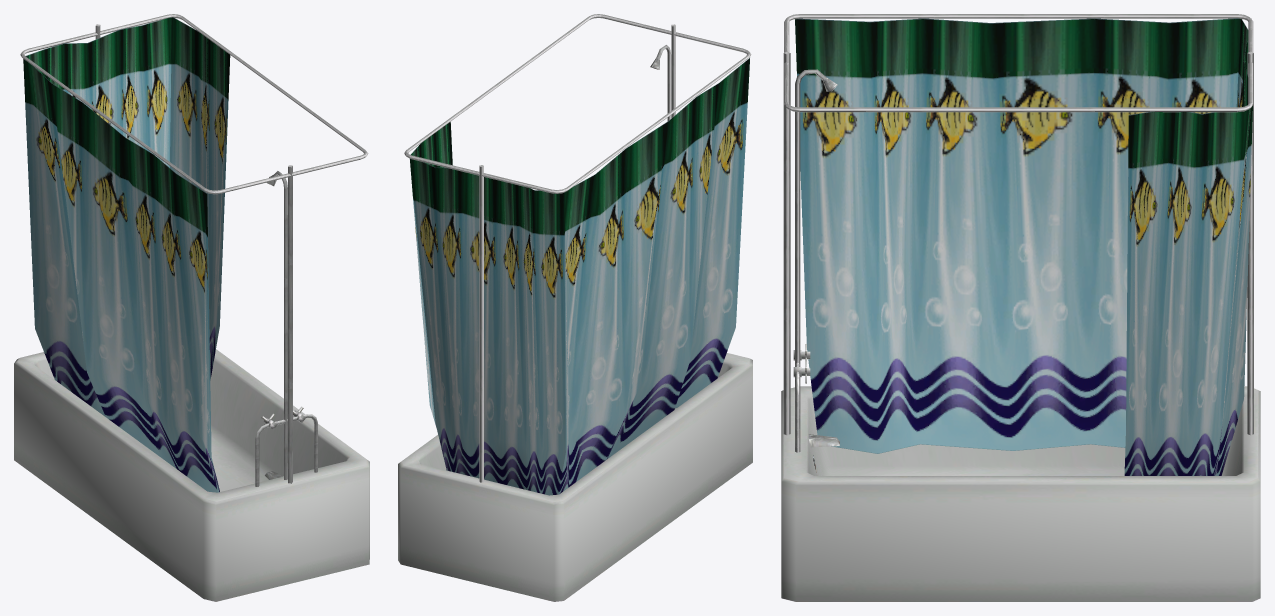
File: clean_tub.fbx
3 views of the same model, side by side, from view 1: azimuth 30°, elevation 25°; view 2: azimuth 150°, elevation 25°; view 3: azimuth 270°, elevation 25° (orthographic). The views are drawn at different scales.
Visible parts, largest first — view 1: mesh_1, mesh_0, mesh_2; view 2: mesh_1, mesh_0, mesh_2; view 3: mesh_1, mesh_0, mesh_2.
Boxes of the visible parts, x1=… form: mesh_1: x1=23, y1=17, x2=230, y2=492; mesh_0: x1=14, y1=14, x2=369, y2=601; mesh_2: x1=23, y1=18, x2=229, y2=492; mesh_1: x1=410, y1=58, x2=749, y2=495; mesh_0: x1=398, y1=14, x2=752, y2=601; mesh_2: x1=410, y1=58, x2=749, y2=495; mesh_1: x1=795, y1=18, x2=1252, y2=475; mesh_0: x1=781, y1=14, x2=1260, y2=601; mesh_2: x1=795, y1=18, x2=1252, y2=475.
Bounding box in the file's own units: 88 × 210 × 182.
2 materials, 2 textured.
